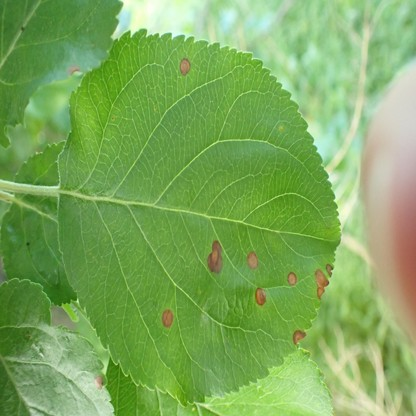frogeye_leaf_spot: (315, 263, 333, 298), (207, 240, 223, 275), (161, 308, 174, 329), (255, 286, 267, 307), (247, 250, 259, 270), (179, 58, 191, 76), (293, 329, 306, 344), (287, 271, 297, 287), (95, 375, 104, 389), (67, 66, 80, 75)
